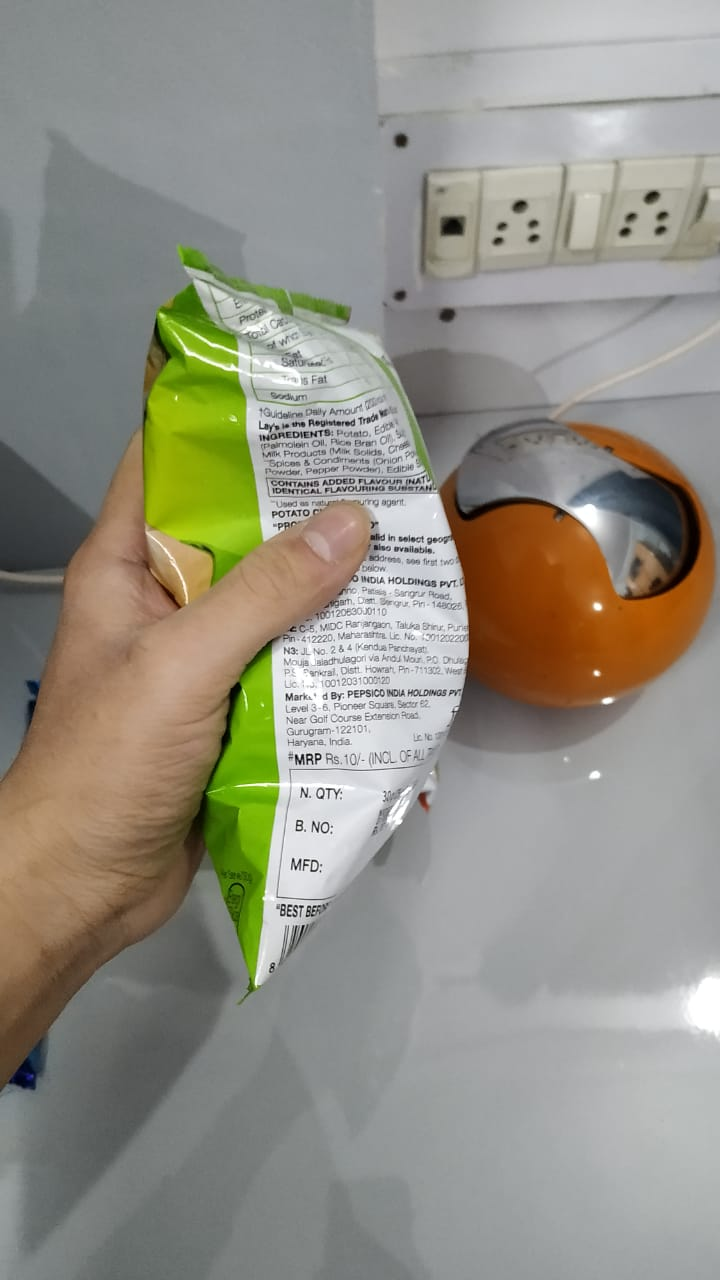lays chips: (129, 217, 468, 1002)
